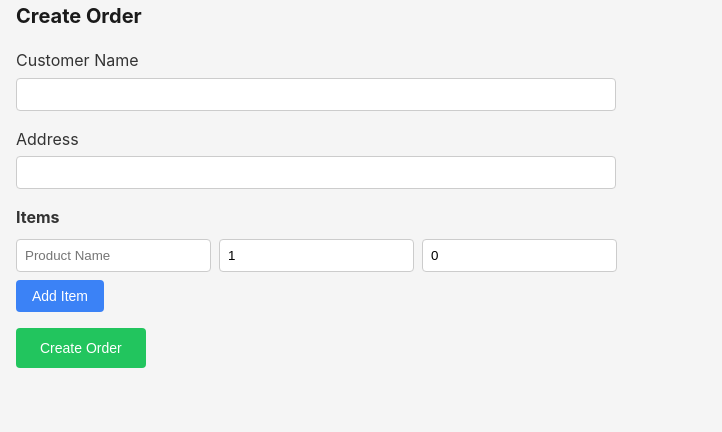
Test: OrderForm › can add items to order
Click the button "Add Item": (60, 296) [16,280,104,312]
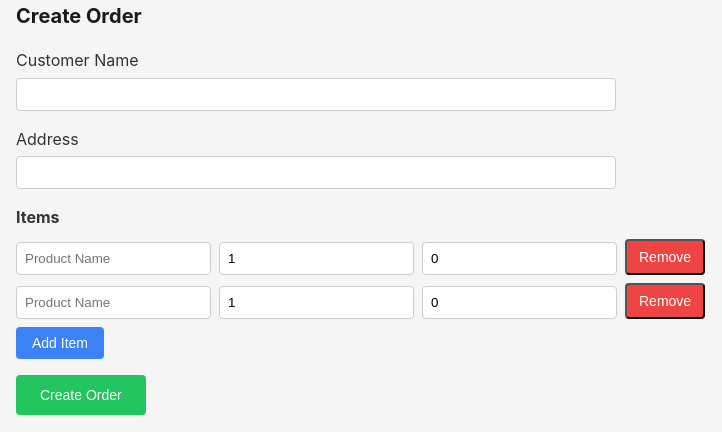
Check: the number of fields with placeholder "Product Name" is 2, box [16,242,211,275]; [16,286,211,319]
